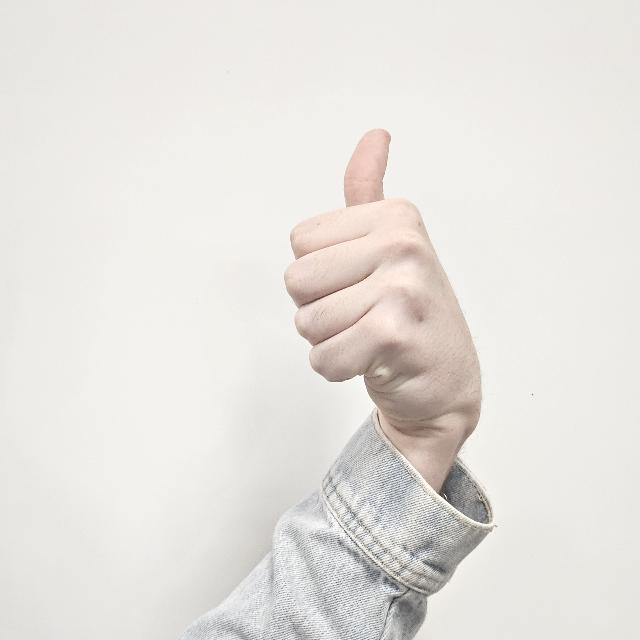Start: (286, 123, 436, 401)
